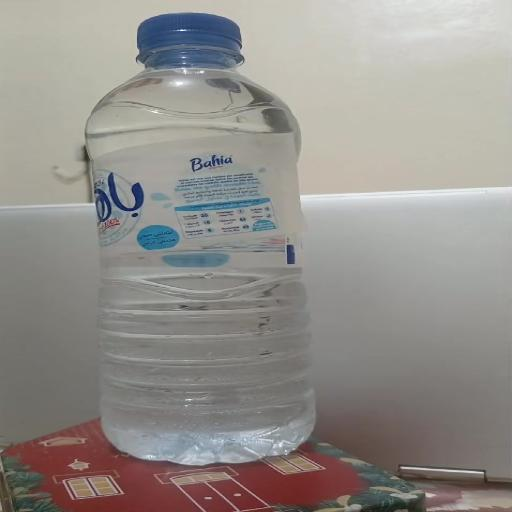bouteille conformite: (91, 5, 304, 461)
